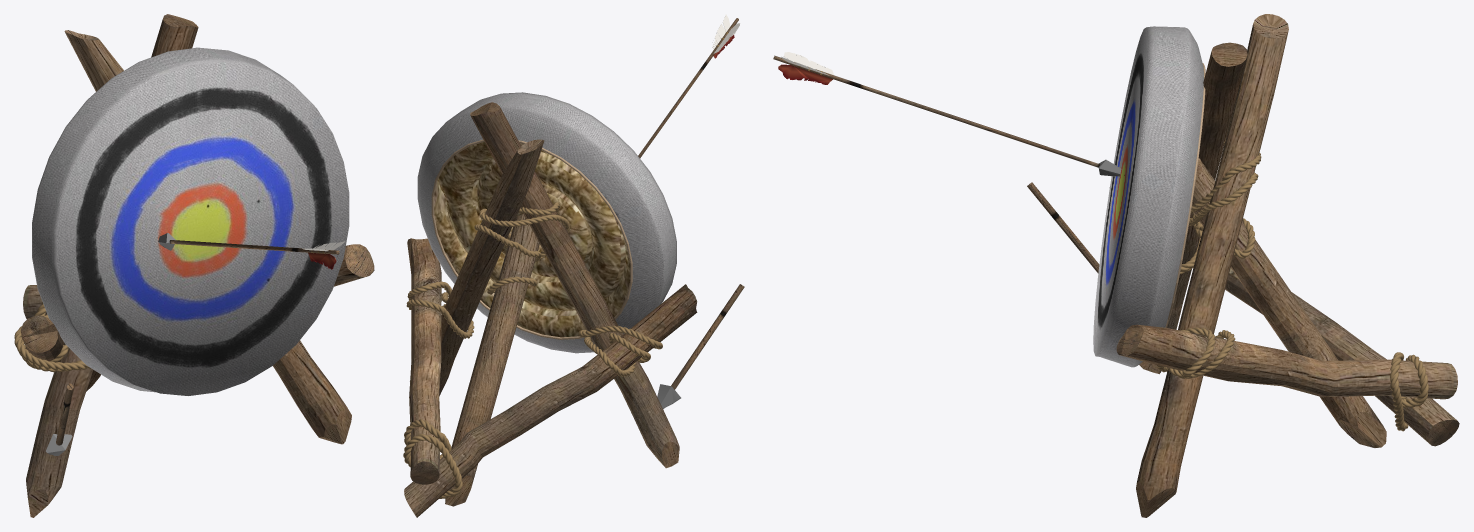
File: gal-b-archery-target-5202.glb
3 views of the same model, side by side, from view 1: azimuth 30°, elevation 25°; view 2: azimuth 150°, elevation 25°; view 3: azimuth 270°, elevation 25° (orthographic). The views are drawn at different scales.
Parts seen in each view (by area): view 1: Target_Disk, Target_Stand.001, Arrow_Embedded, Arrow_Ground; view 2: Target_Stand.001, Target_Disk, Arrow_Ground, Arrow_Embedded; view 3: Target_Stand.001, Target_Disk, Arrow_Embedded, Arrow_Ground.
Part boxes in pixels (box(x1,y1,x2,y2)): Target_Disk: box(32, 47, 349, 395); Target_Stand.001: box(14, 14, 374, 517); Arrow_Embedded: box(158, 233, 345, 269); Arrow_Ground: box(46, 383, 73, 455); Target_Stand.001: box(403, 102, 697, 517); Target_Disk: box(417, 92, 676, 353); Arrow_Ground: box(657, 284, 744, 408); Arrow_Embedded: box(638, 14, 740, 158); Target_Stand.001: box(1109, 14, 1459, 517); Target_Disk: box(1093, 26, 1205, 367); Arrow_Embedded: box(773, 52, 1121, 176); Arrow_Ground: box(1027, 182, 1099, 273).
Size of the model in its own units: 0.7805 by 0.8859 by 1.33.
10 materials, 5 textured.
